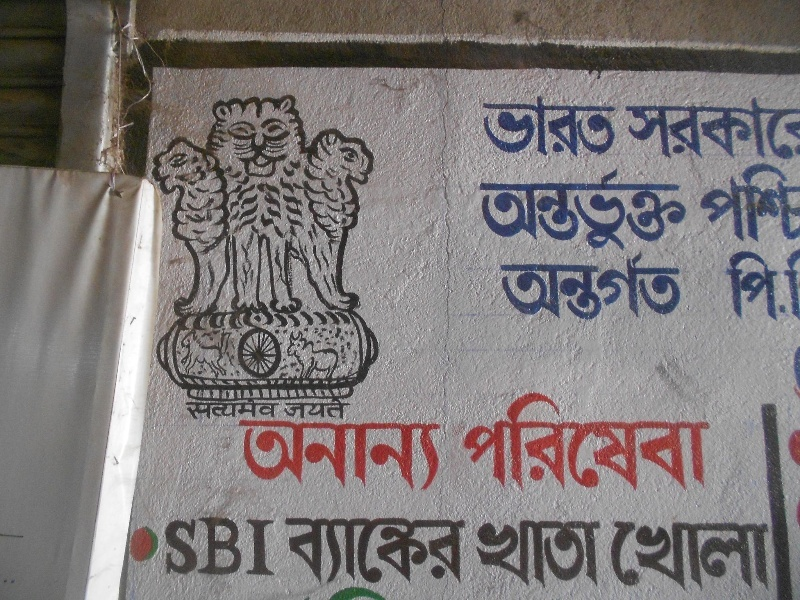text: (465, 390, 480, 497), (481, 390, 496, 497), (497, 390, 512, 497), (513, 390, 528, 497), (529, 390, 544, 497), (545, 390, 560, 497), (561, 390, 576, 497), (577, 390, 592, 497), (593, 390, 608, 497), (609, 390, 624, 497), (625, 390, 640, 497), (641, 390, 656, 497), (657, 390, 672, 497), (673, 390, 688, 497), (689, 390, 704, 497), (481, 168, 496, 252), (497, 168, 512, 252), (513, 168, 528, 252), (529, 168, 544, 252), (545, 168, 560, 252), (561, 168, 576, 252), (577, 168, 592, 252), (593, 168, 608, 252), (609, 168, 624, 252), (625, 168, 640, 252), (641, 168, 656, 252), (657, 168, 672, 252), (497, 247, 512, 323), (513, 247, 528, 323), (529, 247, 544, 323), (545, 247, 560, 323), (561, 247, 576, 323), (577, 247, 592, 323), (593, 247, 608, 323), (609, 247, 624, 323), (625, 247, 640, 323), (641, 247, 656, 323), (657, 247, 672, 323), (721, 166, 736, 242), (737, 166, 752, 242), (753, 166, 768, 242), (769, 166, 784, 242), (785, 166, 800, 242), (241, 419, 256, 493), (257, 419, 272, 493), (273, 419, 288, 493), (289, 419, 304, 493), (305, 419, 320, 493), (321, 419, 336, 493), (337, 419, 352, 493), (353, 419, 368, 493), (369, 419, 384, 493), (385, 419, 400, 493), (401, 419, 416, 493), (417, 419, 432, 493), (673, 168, 686, 252), (609, 520, 624, 592), (625, 520, 640, 592), (641, 520, 656, 592), (657, 520, 672, 592), (673, 520, 688, 592), (689, 520, 704, 592), (705, 520, 720, 592), (721, 520, 736, 592), (737, 520, 752, 592), (753, 520, 768, 592), (737, 251, 752, 320), (753, 251, 768, 320), (769, 251, 784, 320), (785, 251, 800, 320), (289, 516, 304, 584), (305, 516, 320, 584), (321, 516, 336, 584), (337, 516, 352, 584), (353, 516, 368, 584), (369, 516, 384, 584), (385, 516, 400, 584), (401, 516, 416, 584), (417, 516, 432, 584), (433, 516, 448, 584), (449, 516, 464, 584), (481, 521, 496, 589), (497, 521, 512, 589), (513, 521, 528, 589), (529, 521, 544, 589), (545, 521, 560, 589), (561, 521, 576, 589), (577, 521, 592, 589), (497, 94, 512, 161), (513, 94, 528, 161), (529, 94, 544, 161), (545, 94, 560, 161), (561, 94, 576, 161), (577, 94, 592, 161), (593, 94, 608, 161), (707, 166, 720, 242), (673, 247, 685, 323), (433, 419, 445, 493), (483, 94, 496, 161), (177, 517, 192, 575), (193, 517, 208, 575), (209, 517, 224, 575), (225, 517, 240, 575), (241, 517, 256, 575), (257, 517, 272, 575), (785, 415, 798, 477), (641, 106, 656, 159), (657, 106, 672, 159), (673, 106, 688, 159), (689, 106, 704, 159), (705, 106, 720, 159), (721, 106, 736, 159), (737, 106, 752, 159), (753, 106, 768, 159), (769, 106, 784, 159), (785, 106, 798, 159), (788, 336, 800, 388), (629, 106, 640, 159), (166, 517, 176, 575), (593, 521, 601, 589), (609, 94, 617, 161), (705, 390, 710, 497), (473, 521, 480, 589), (730, 251, 736, 320), (193, 399, 208, 422), (209, 399, 224, 422), (225, 399, 240, 422), (241, 399, 256, 422), (257, 399, 272, 422), (273, 399, 288, 422), (289, 399, 304, 422), (305, 399, 320, 422), (321, 399, 336, 422), (337, 399, 352, 422), (461, 390, 464, 497), (790, 496, 800, 528), (181, 399, 192, 422), (769, 520, 772, 592), (285, 516, 288, 584), (465, 516, 468, 584), (273, 517, 276, 575), (797, 422, 800, 469), (305, 588, 320, 596), (321, 588, 336, 596), (337, 588, 352, 596), (353, 588, 368, 596), (369, 588, 384, 596), (479, 168, 480, 252), (353, 399, 356, 422), (783, 415, 784, 477), (385, 588, 388, 596), (302, 588, 304, 596)
